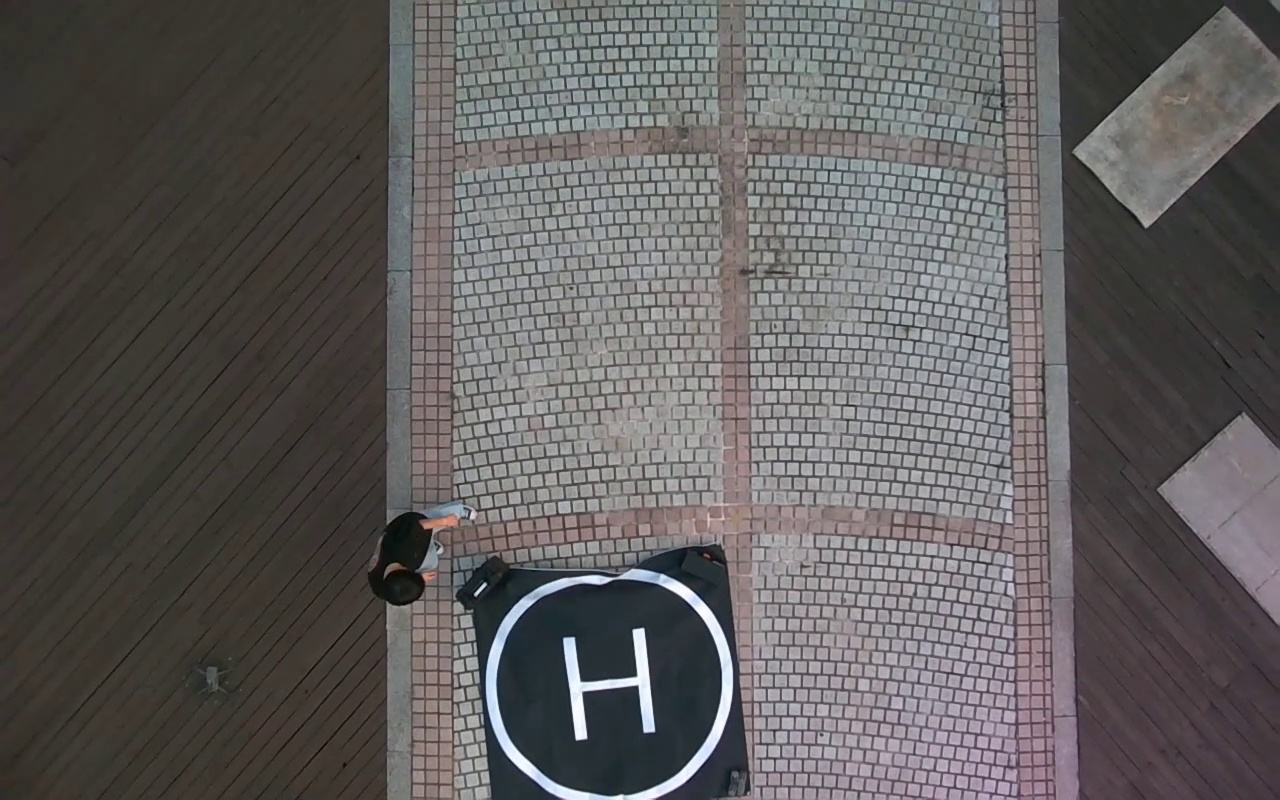H: (562, 625, 662, 738)
heliport: (483, 568, 736, 800)
